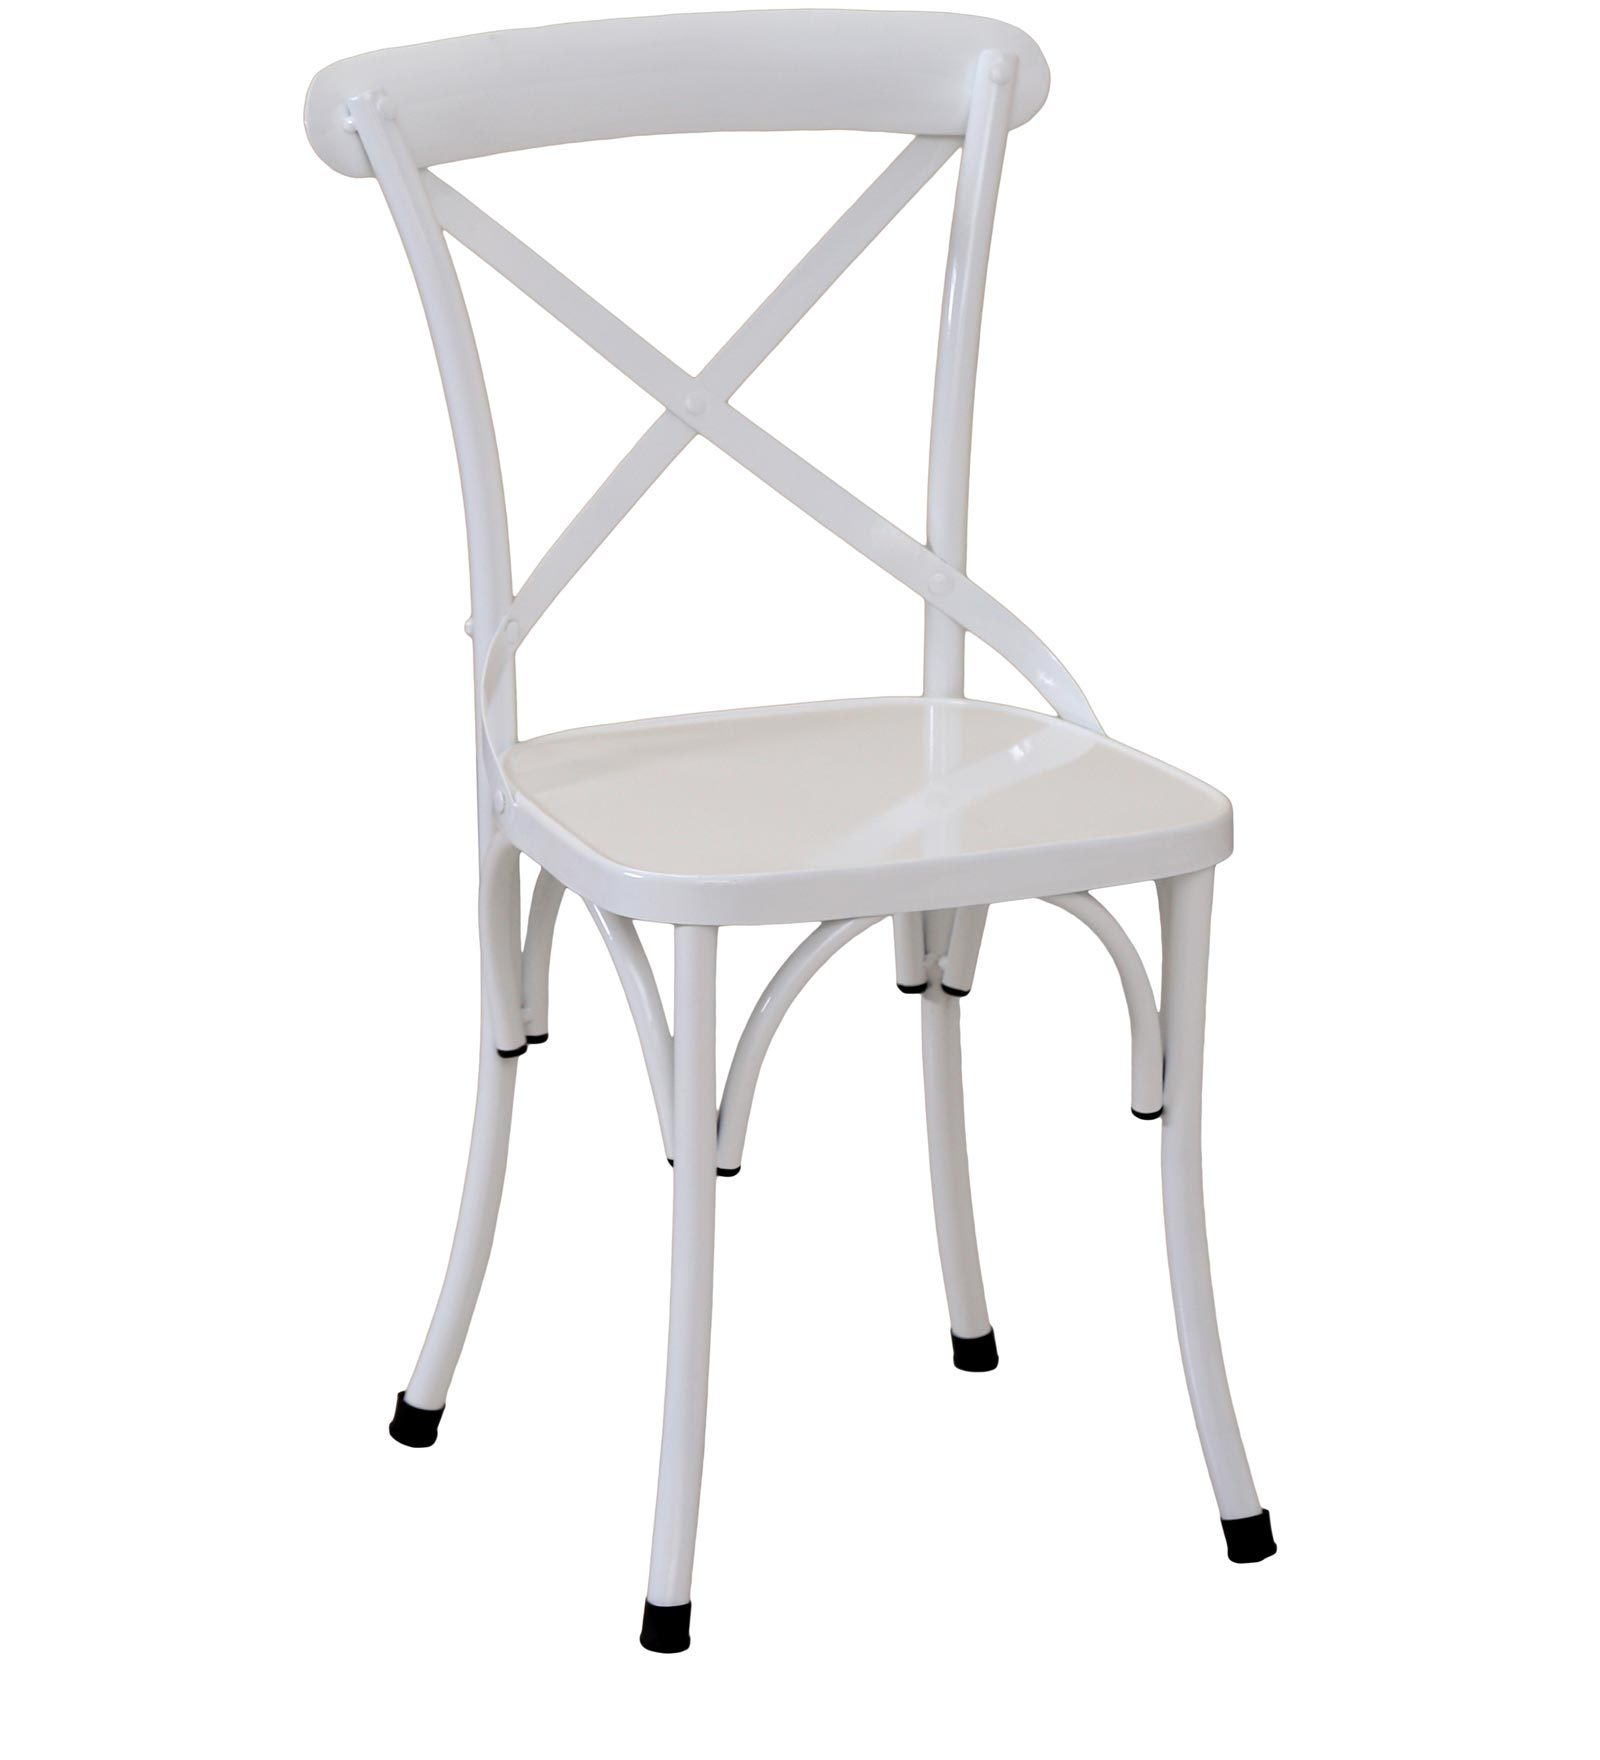Fabian Metal Chair in White Color by Bohemiana: (297, 8, 1405, 1706)
